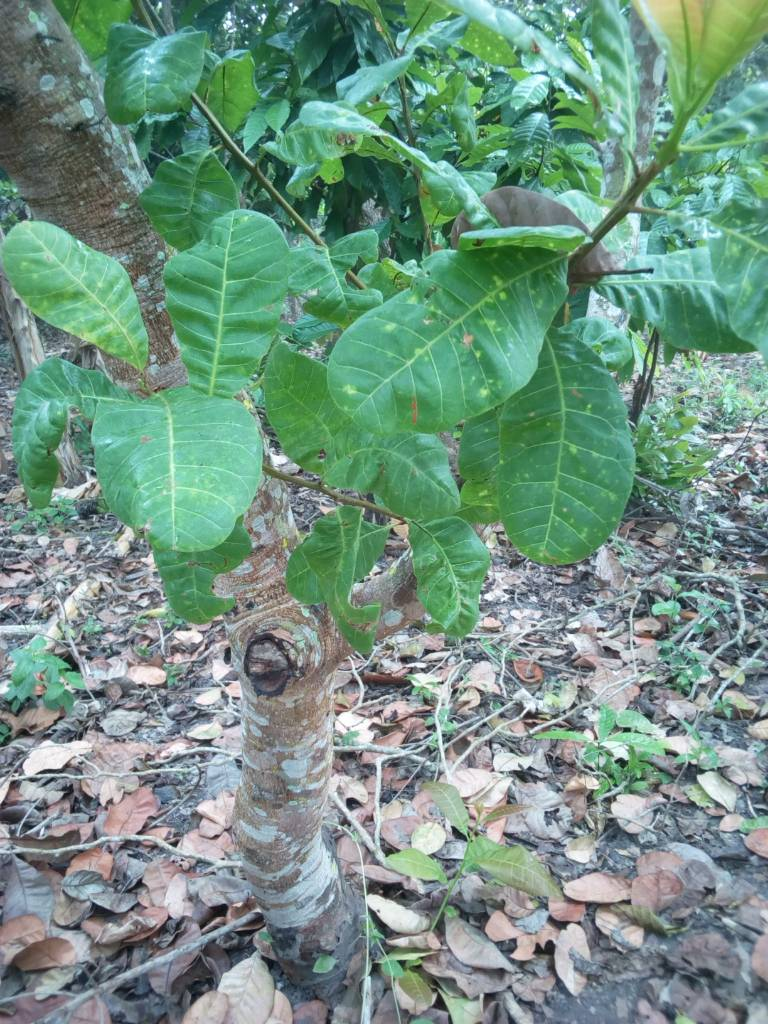Carence minérale: (321, 239, 583, 435), (500, 335, 638, 571), (1, 214, 154, 378), (707, 180, 768, 352)
